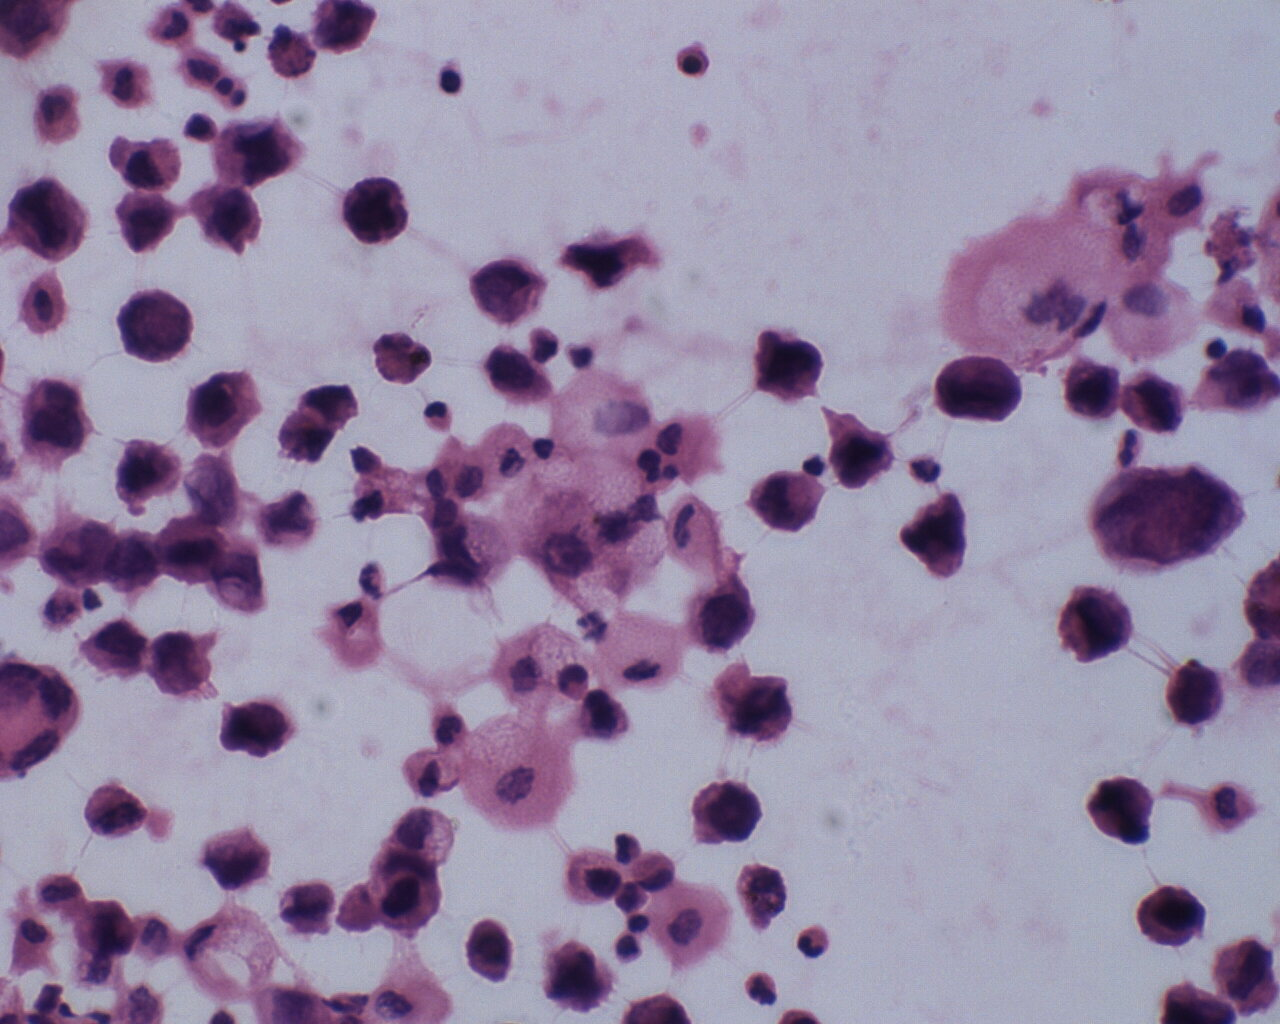ab: (210, 114, 309, 194), (176, 366, 264, 452), (7, 174, 89, 263), (1054, 583, 1138, 669), (108, 434, 184, 520), (935, 353, 1024, 427), (113, 287, 195, 366), (183, 182, 265, 260), (153, 514, 228, 592), (690, 575, 760, 658), (753, 324, 827, 403), (338, 174, 415, 248), (1086, 773, 1161, 847), (111, 185, 184, 261), (480, 345, 556, 416), (689, 778, 766, 847), (1117, 364, 1189, 436), (1137, 883, 1207, 950), (1159, 655, 1225, 726), (1057, 352, 1118, 419)
histo: (459, 715, 576, 833), (1108, 272, 1201, 367), (599, 613, 693, 697)
neutro: (743, 967, 784, 1011), (793, 922, 834, 962), (556, 659, 596, 699), (904, 453, 948, 485)
